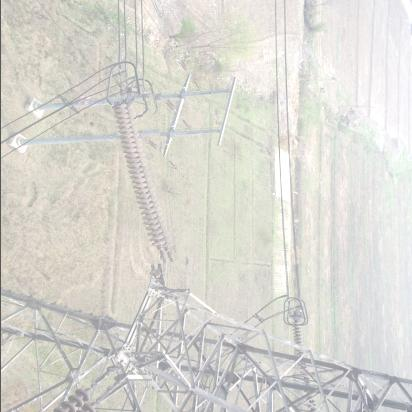insulator: (116, 96, 172, 268)
